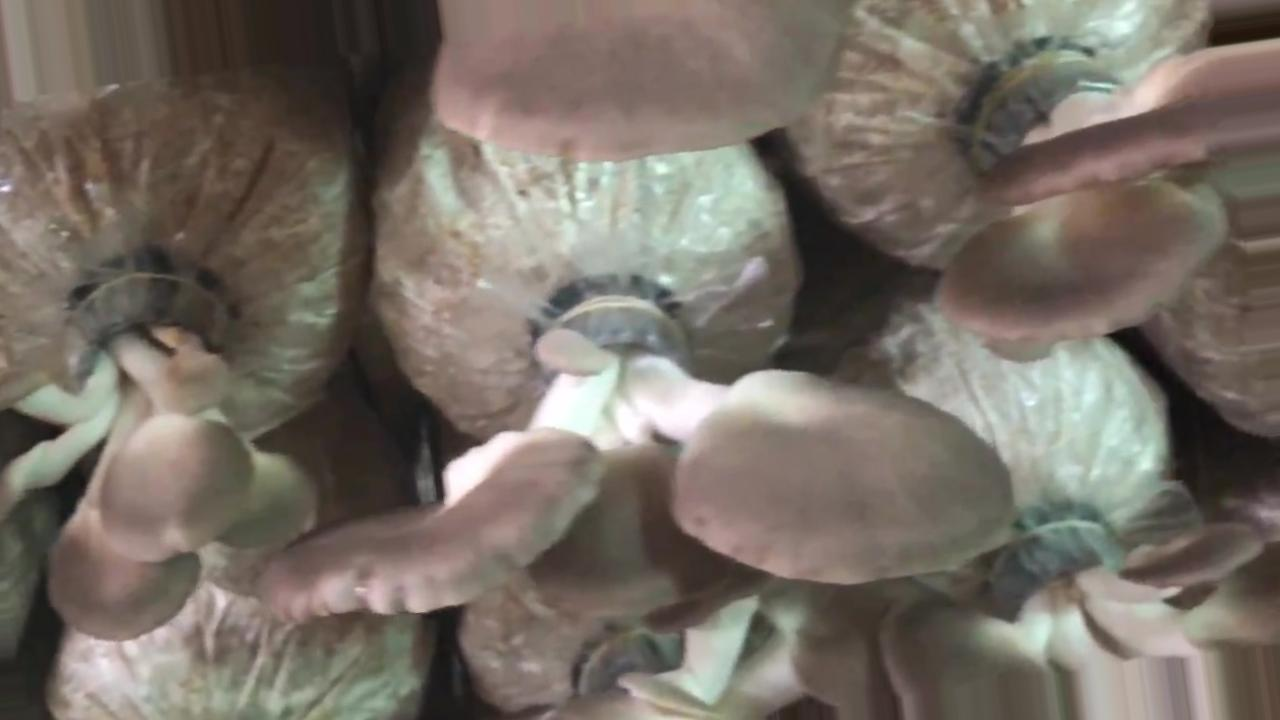nam: (246, 274, 1017, 625), (1, 260, 324, 644), (932, 41, 1280, 358), (438, 1, 834, 166)
